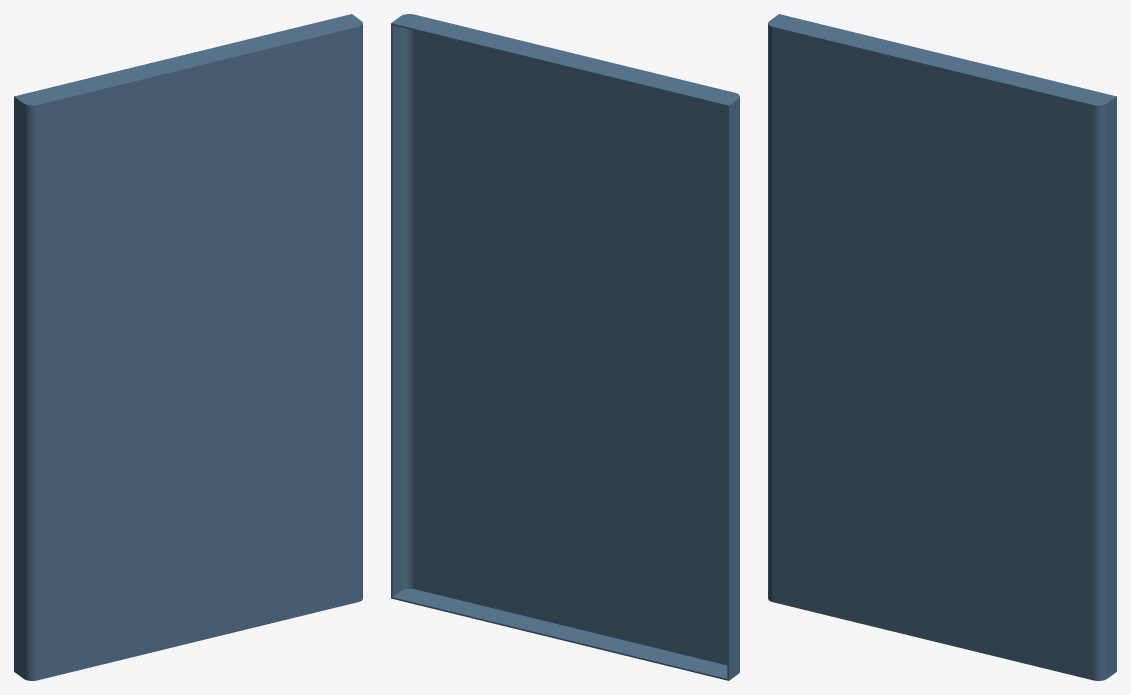
The model's file is esp2026_p14_back_cover.glb.
3 renders of one model, left to right at view 1: azimuth 30°, elevation 25°; view 2: azimuth 150°, elevation 25°; view 3: azimuth 330°, elevation 25°, orthographic.
Visible parts, largest first — view 1: back cushion cover; view 2: back cushion cover; view 3: back cushion cover.
Boxes of the visible parts, bbox=[...] form: back cushion cover: bbox=[14, 14, 362, 680]; back cushion cover: bbox=[391, 14, 739, 680]; back cushion cover: bbox=[768, 14, 1116, 680].
Bounding box in the file's own units: 424 × 690 × 32.
